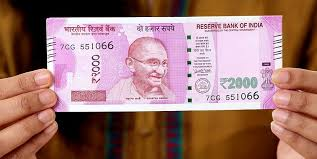twoThousand: (64, 34, 265, 97)
